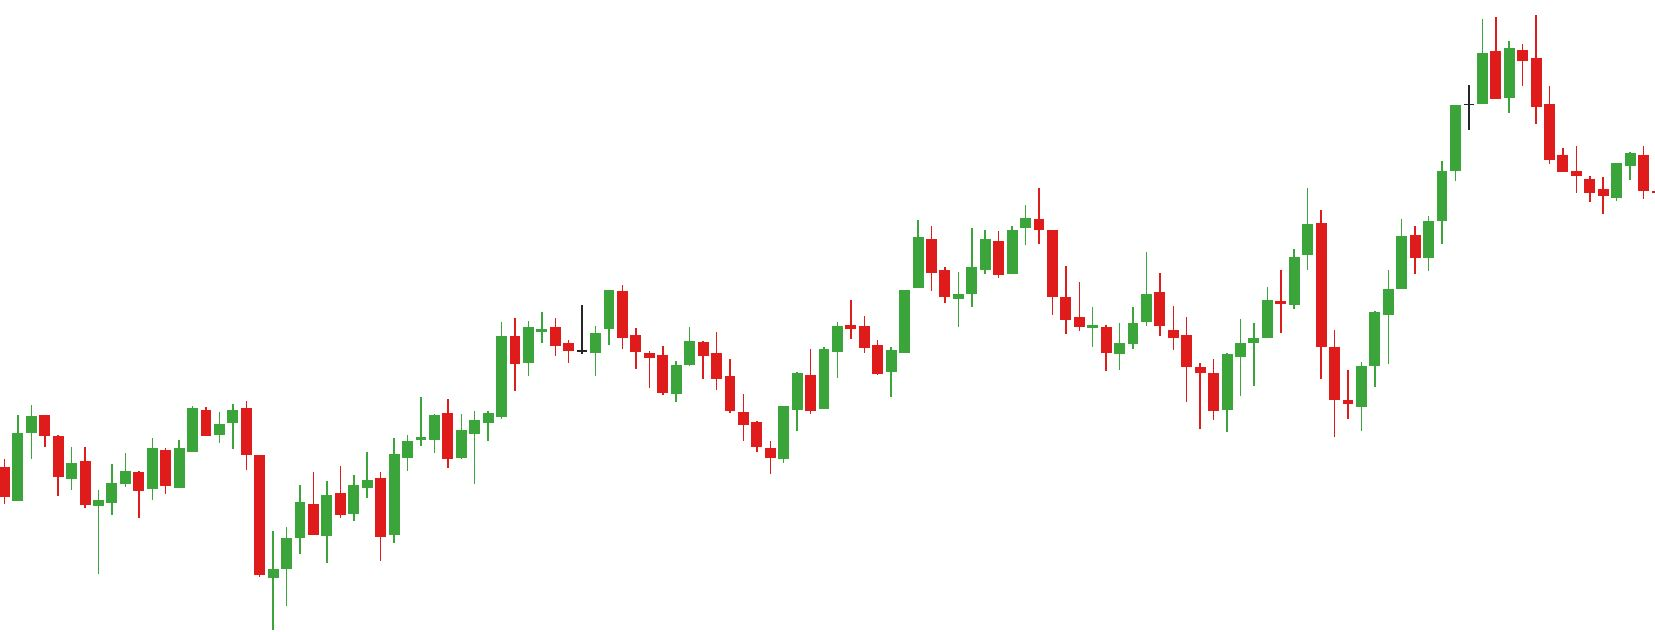buy: (91, 459, 294, 632), (1099, 291, 1235, 439)
